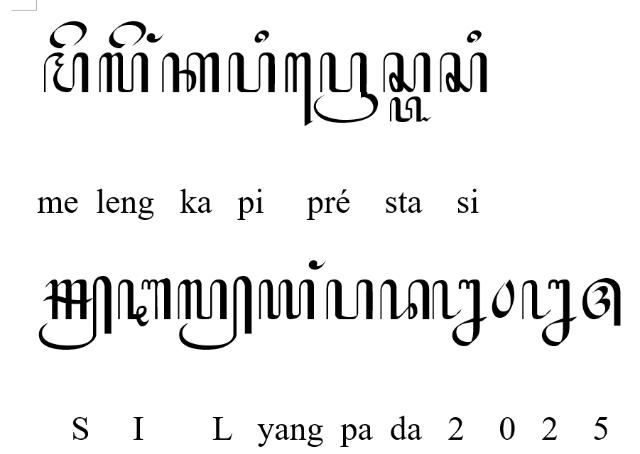-l: (175, 276, 252, 352)
-s: (38, 275, 112, 351)
0: (491, 281, 515, 320)
5: (582, 277, 622, 326)
I: (117, 277, 173, 327)
_t: (390, 96, 432, 122)
d: (378, 279, 429, 321)
e: (49, 21, 87, 50), (108, 21, 146, 50)
e1: (284, 52, 314, 128)
i: (254, 28, 270, 44), (466, 30, 482, 44)
k: (162, 52, 220, 92)
l: (99, 53, 150, 94)
m: (42, 52, 90, 94)
ng: (146, 32, 164, 42), (308, 260, 326, 270)
ngna: (520, 278, 578, 348), (432, 279, 488, 347)
p: (228, 52, 276, 94), (326, 278, 374, 320)
pr: (313, 52, 379, 122)
s: (382, 53, 432, 94), (439, 52, 486, 94)
y: (258, 279, 314, 321)
